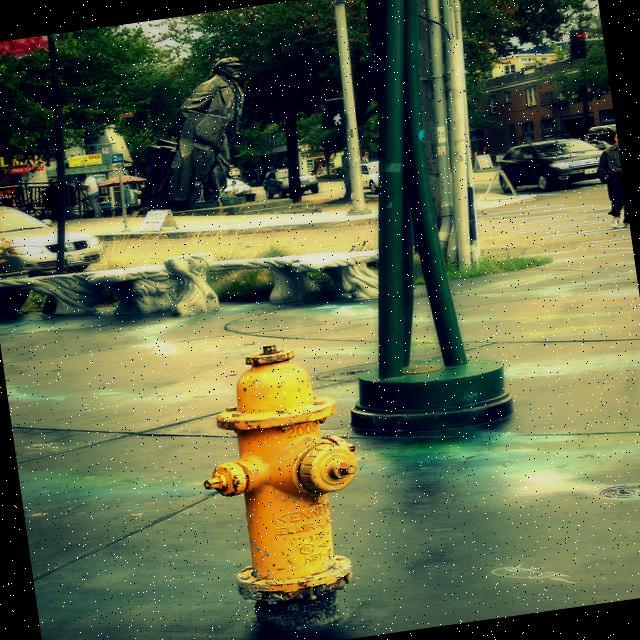fire_hydrant: (190, 336, 376, 600)
